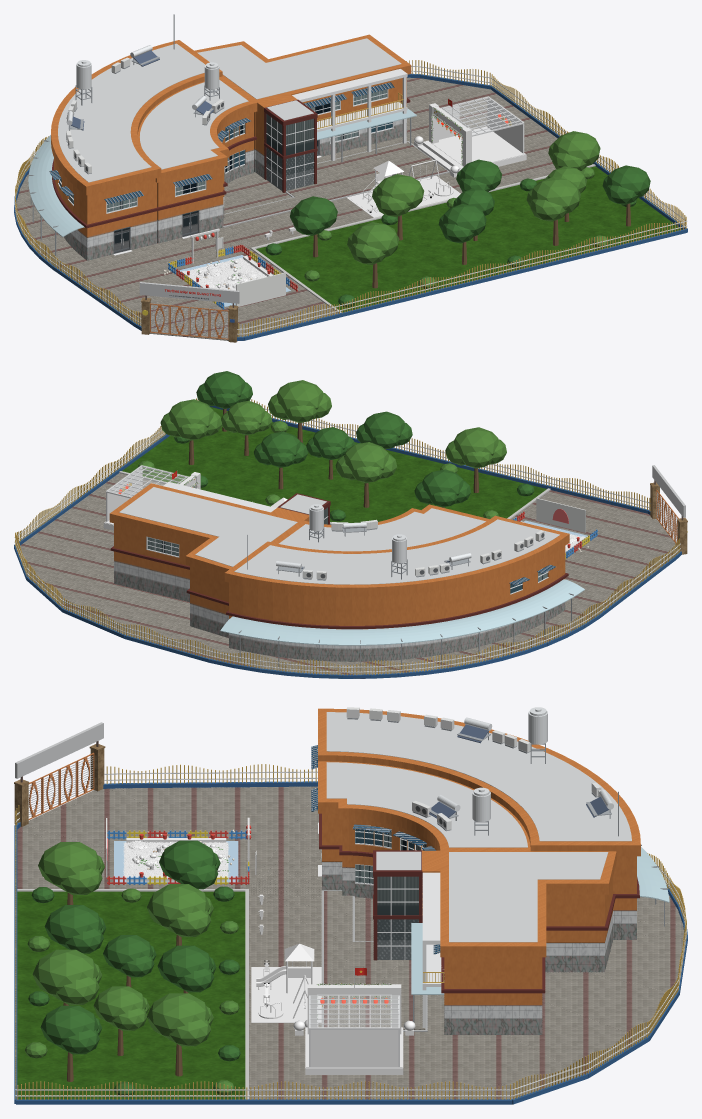
The model's file is mamnonQuangTrungfinal.glb.
The picture shows the model from 3 angles, top to bottom: view 1: azimuth 30°, elevation 25°; view 2: azimuth 150°, elevation 25°; view 3: azimuth 270°, elevation 25°; orthographic projection. The views are drawn at different scales.
Parts seen in each view (by area): view 1: MNQT_Paved_Courtyard, MNQT_Garden_Lawn, OuterArc_Roof_Slab, MNQT_Garden_FoliageLt, MNQT_Fence_YellowPickets, MNQT_Garden_FoliageDk, RightBlock_Roof_Slab, InnerArc_Roof_Slab, Courtyard_L_Paving, OuterArc_Wall_Body, InnerArc_Wall_Body, MNQT_Fence_BlueCurb (+35 smaller); view 2: MNQT_Paved_Courtyard, MNQT_Garden_Lawn, OuterArc_Wall_Body, MNQT_Garden_FoliageLt, MNQT_Fence_YellowPickets, OuterArc_Roof_Slab, MNQT_Garden_FoliageDk, Canopy_CurvedOuter_And_RightBlock, RightBlock_Wall_Body, RightBlock_Roof_Slab, OuterArc_Roof_Fascia, MNQT_Fence_BlueCurb (+20 smaller); view 3: MNQT_Paved_Courtyard, MNQT_Garden_Lawn, OuterArc_Roof_Slab, MNQT_Garden_FoliageLt, MNQT_Garden_FoliageDk, RightBlock_Wall_Body, RightBlock_Roof_Slab, InnerArc_Roof_Slab, MNQT_Fence_YellowPickets, Courtyard_L_Paving, MNQT_Fence_BlueCurb, OuterArc_Roof_Fascia (+35 smaller).
Boxes of the visible parts, x1=… form: MNQT_Paved_Courtyard: x1=16, y1=77, x2=592, y2=341; MNQT_Garden_Lawn: x1=256, y1=166, x2=681, y2=312; OuterArc_Roof_Slab: x1=58, y1=43, x2=205, y2=182; MNQT_Garden_FoliageLt: x1=304, y1=131, x2=608, y2=288; MNQT_Fence_YellowPickets: x1=15, y1=60, x2=686, y2=336; MNQT_Garden_FoliageDk: x1=265, y1=159, x2=650, y2=307; RightBlock_Roof_Slab: x1=197, y1=38, x2=401, y2=99; InnerArc_Roof_Slab: x1=139, y1=80, x2=248, y2=169; Courtyard_L_Paving: x1=223, y1=142, x2=447, y2=225; OuterArc_Wall_Body: x1=54, y1=158, x2=156, y2=260; InnerArc_Wall_Body: x1=157, y1=112, x2=253, y2=243; MNQT_Fence_BlueCurb: x1=14, y1=73, x2=687, y2=340; MNQT_Paved_Courtyard: x1=20, y1=473, x2=677, y2=678; MNQT_Garden_Lawn: x1=122, y1=407, x2=546, y2=522; OuterArc_Wall_Body: x1=229, y1=546, x2=565, y2=661; MNQT_Garden_FoliageLt: x1=138, y1=380, x2=506, y2=518; MNQT_Fence_YellowPickets: x1=15, y1=398, x2=674, y2=675; OuterArc_Roof_Slab: x1=234, y1=519, x2=559, y2=584; MNQT_Garden_FoliageDk: x1=174, y1=371, x2=534, y2=521; Canopy_CurvedOuter_And_RightBlock: x1=220, y1=579, x2=584, y2=645; RightBlock_Wall_Body: x1=114, y1=523, x2=228, y2=637; RightBlock_Roof_Slab: x1=119, y1=487, x2=297, y2=566; OuterArc_Roof_Fascia: x1=224, y1=515, x2=569, y2=596; MNQT_Fence_BlueCurb: x1=14, y1=405, x2=675, y2=678; MNQT_Paved_Courtyard: x1=17, y1=786, x2=683, y2=1104; MNQT_Garden_Lawn: x1=17, y1=891, x2=245, y2=1099; OuterArc_Roof_Slab: x1=326, y1=712, x2=631, y2=841; MNQT_Garden_FoliageLt: x1=25, y1=842, x2=239, y2=1095; MNQT_Garden_FoliageDk: x1=28, y1=840, x2=240, y2=1097; RightBlock_Wall_Body: x1=444, y1=878, x2=612, y2=1034; RightBlock_Roof_Slab: x1=449, y1=852, x2=608, y2=942; InnerArc_Roof_Slab: x1=326, y1=762, x2=527, y2=847; MNQT_Fence_YellowPickets: x1=15, y1=764, x2=686, y2=1099; Courtyard_L_Paving: x1=324, y1=891, x2=425, y2=1029; MNQT_Fence_BlueCurb: x1=14, y1=781, x2=687, y2=1104; OuterArc_Roof_Fascia: x1=318, y1=708, x2=640, y2=856.
Size of the model in its own units: 55.52 by 12.27 by 49.55.
83 materials, 8 textured.
